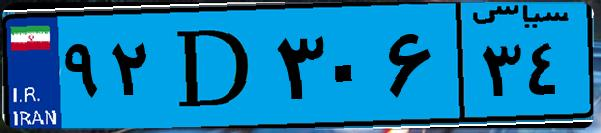0: (330, 28, 385, 110)
2: (110, 28, 158, 98)
3: (270, 28, 330, 110), (475, 38, 525, 113)
4: (525, 38, 570, 115)
6: (385, 28, 445, 110)
9: (57, 26, 110, 100)
D: (158, 12, 270, 120)
